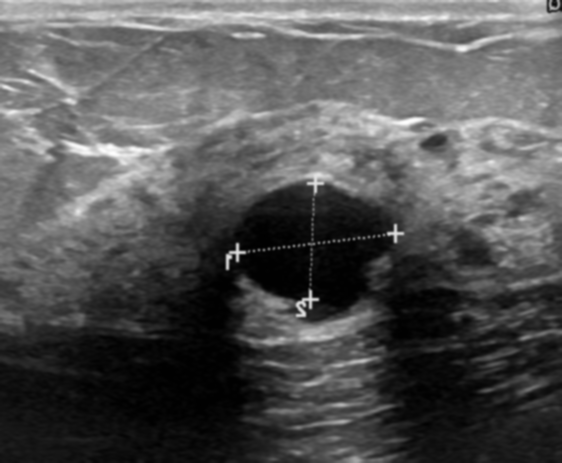Benign: (233, 177, 393, 310)
